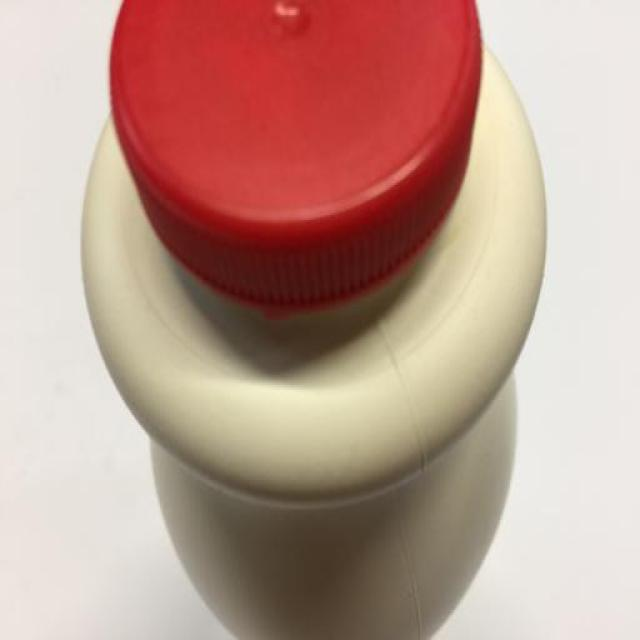bottle: (68, 0, 562, 640)
